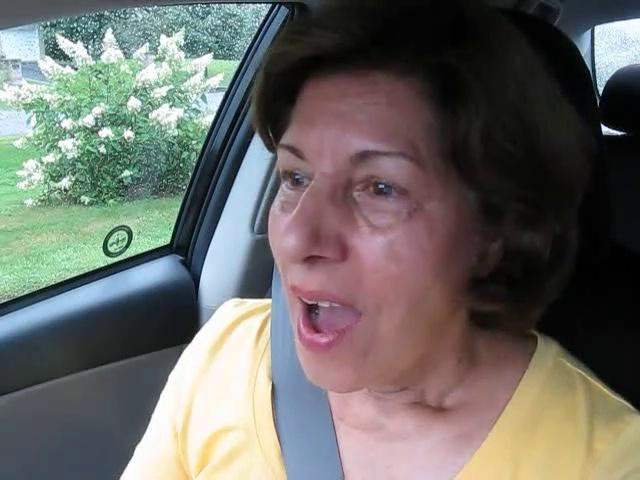open_eyeL: (270, 160, 325, 201)
open_eyeR: (342, 163, 426, 215)
yawn: (267, 283, 380, 358)
